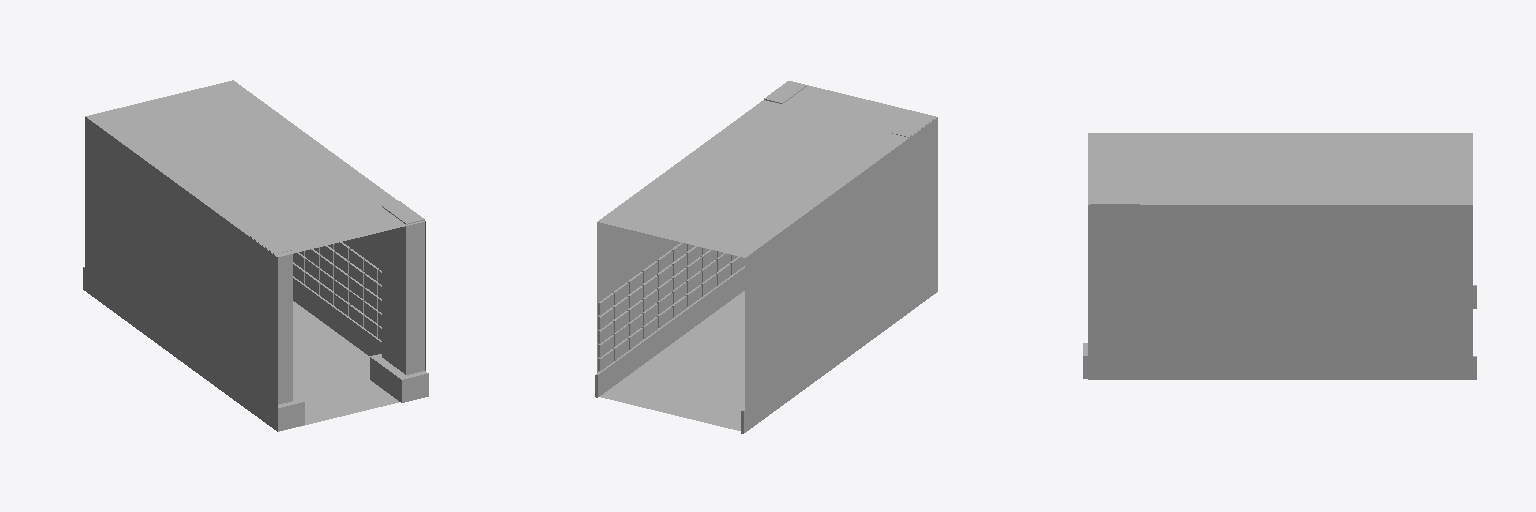
Rendered from CouloirMaya.obj.
3 views of the same model, side by side, from view 1: azimuth 30°, elevation 25°; view 2: azimuth 150°, elevation 25°; view 3: azimuth 270°, elevation 25° (orthographic).
Parts seen in each view (by area): view 1: pCube1, pasted__polySurface1 group, polySurface1, pasted__pasted__polySurface1 pasted__group group1, pasted__pCube4 group2; view 2: pCube1, polySurface1, pasted__pCube4 group2; view 3: pCube1, pasted__polySurface1 group.
Boxes of the visible parts, <box> form: pCube1: <box>85,80,425,431</box>; pasted__polySurface1 group: <box>370,201,428,402</box>; polySurface1: <box>293,242,381,340</box>; pasted__pasted__polySurface1 pasted__group group1: <box>250,232,304,430</box>; pasted__pCube4 group2: <box>293,276,381,355</box>; pCube1: <box>597,81,937,432</box>; polySurface1: <box>598,242,744,370</box>; pasted__pCube4 group2: <box>595,266,744,397</box>; pCube1: <box>1088,133,1472,379</box>; pasted__polySurface1 group: <box>1083,195,1139,378</box>.
Bounding box in the file's own units: 8 × 9.06 × 18.39.